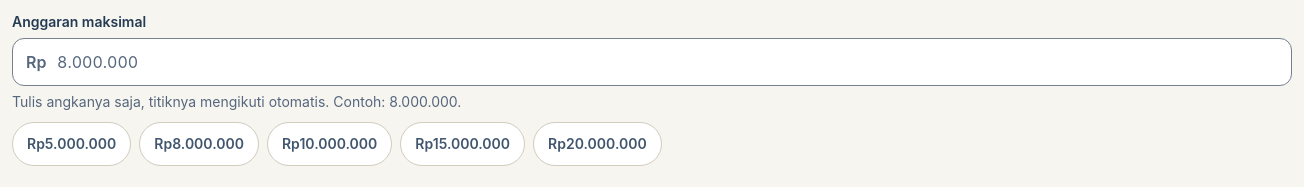
Test case: BudgetField › fills in a suggested amount with one tap
Click the button with aria-label "Isi anggaran Rp10.000.000". click: {"x": 330, "y": 144}
box: [267,122,392,166]
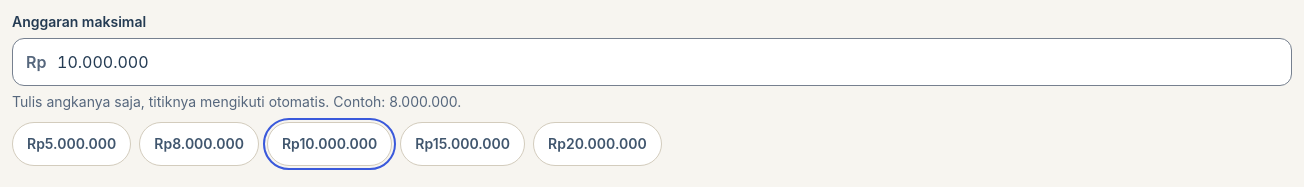
Now the field labelled "Anggaran maksimal" holds "10.000.000", box [12,38,1292,86]
